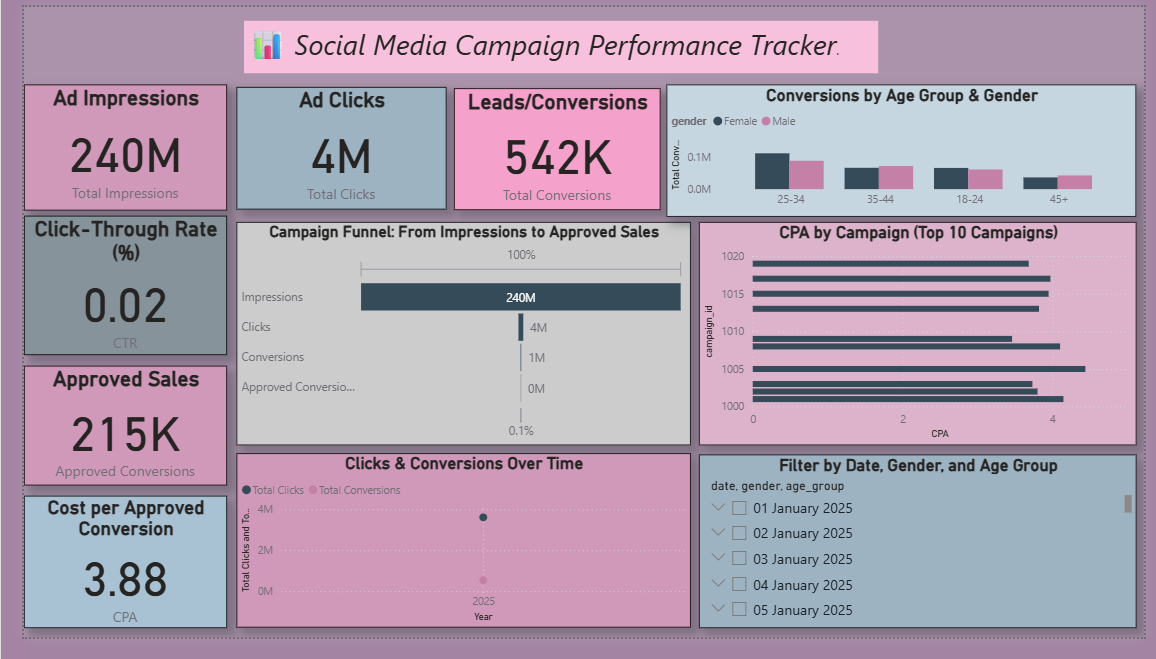

The dashboard page shown, as its layout file describes it:
{"tool":"powerbi","page":{"name":"Page 1","canvas":[1280,720],"ordinal":0},"visuals":[{"type":"card","title":"Ad Impressions","fields":{"Values":["facebook_ads_clean.Total Impressions"]},"box":[0,88,232,144],"z":0},{"type":"card","title":"Ad Clicks","fields":{"Values":["facebook_ads_clean.Total Clicks"]},"box":[243,91,240,140],"z":1000},{"type":"card","title":"Click-Through Rate (%)","fields":{"Values":["facebook_ads_clean.CTR"]},"box":[0,239,232,159],"z":2000},{"type":"card","title":"Leads/Conversions","fields":{"Values":["facebook_ads_clean.Total Conversions"]},"box":[491,93,236,139],"z":3000},{"type":"card","title":"Approved Sales","fields":{"Values":["facebook_ads_clean.Approved Conversions"]},"box":[0,410,232,137],"z":4000},{"type":"card","title":"Cost per Approved Conversion","fields":{"Values":["facebook_ads_clean.CPA"]},"box":[0,558.5,231.9,150.9],"z":5000},{"type":"funnel","title":"Campaign Funnel: From Impressions to Approved Sales","fields":{"Category":["Funnel Stages.Stage"],"Y":["Funnel Stages.Funnel Value"]},"box":[243,246,519,255],"z":6000},{"type":"lineChart","title":"Clicks & Conversions Over Time","fields":{"Category":["facebook_ads_clean.date.Variation.Date Hierarchy.Year","facebook_ads_clean.date.Variation.Date Hierarchy.Quarter","facebook_ads_clean.date.Variation.Date Hierarchy.Month","facebook_ads_clean.date.Variation.Date Hierarchy.Day"],"Y":["facebook_ads_clean.Total Clicks","facebook_ads_clean.Total Conversions"]},"box":[243,510,519,199],"z":7000},{"type":"clusteredColumnChart","title":"Conversions by Age Group & Gender","fields":{"Category":["facebook_ads_clean.age_group"],"Y":["facebook_ads_clean.Total Conversions"],"Series":["facebook_ads_clean.gender"]},"box":[734,88,537,151],"z":8000},{"type":"clusteredBarChart","title":"CPA by Campaign (Top 10 Campaigns)","fields":{"Category":["facebook_ads_clean.campaign_id"],"Y":["facebook_ads_clean.CPA"]},"box":[771,246,500,255],"z":9000},{"type":"slicer","title":"Filter by Date, Gender, and Age Group","fields":{"Values":["facebook_ads_clean.date","facebook_ads_clean.gender","facebook_ads_clean.age_group"]},"box":[771,511,500,198],"z":10000},{"type":"textbox","box":[251.1,15.1,724.5,60.4],"z":11000}]}

Visuals, with their boxes in screenshot pixels (x1, y1, x2, y2), scaled from the page's 1280x720 canvas onto the 1156x659 screenshot:
"Ad Impressions" card: pyautogui.locateOnScreen(0, 81, 210, 212)
"Ad Clicks" card: pyautogui.locateOnScreen(219, 83, 436, 211)
"Click-Through Rate (%)" card: pyautogui.locateOnScreen(0, 219, 210, 364)
"Leads/Conversions" card: pyautogui.locateOnScreen(443, 85, 657, 212)
"Approved Sales" card: pyautogui.locateOnScreen(0, 375, 210, 501)
"Cost per Approved Conversion" card: pyautogui.locateOnScreen(0, 511, 209, 649)
"Campaign Funnel: From Impressions to Approved Sales" funnel: pyautogui.locateOnScreen(219, 225, 688, 459)
"Clicks & Conversions Over Time" lineChart: pyautogui.locateOnScreen(219, 467, 688, 649)
"Conversions by Age Group & Gender" clusteredColumnChart: pyautogui.locateOnScreen(663, 81, 1148, 219)
"CPA by Campaign (Top 10 Campaigns)" clusteredBarChart: pyautogui.locateOnScreen(696, 225, 1148, 459)
"Filter by Date, Gender, and Age Group" slicer: pyautogui.locateOnScreen(696, 468, 1148, 649)
textbox: pyautogui.locateOnScreen(227, 14, 881, 69)
